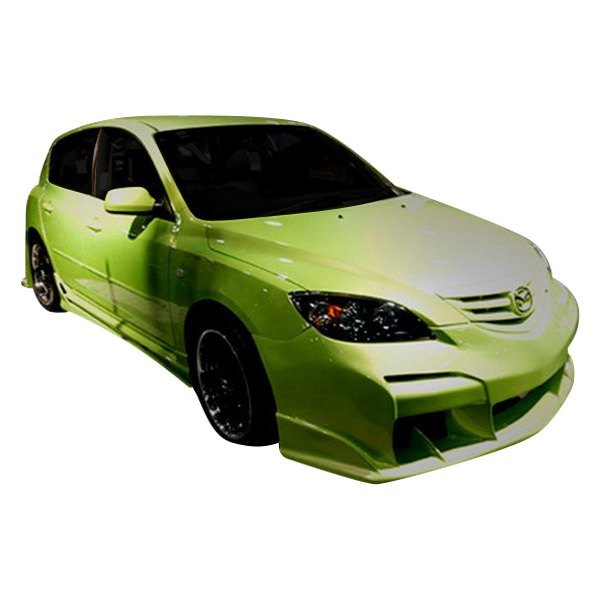Mazda3 Hatchback: (19, 110, 584, 492)
